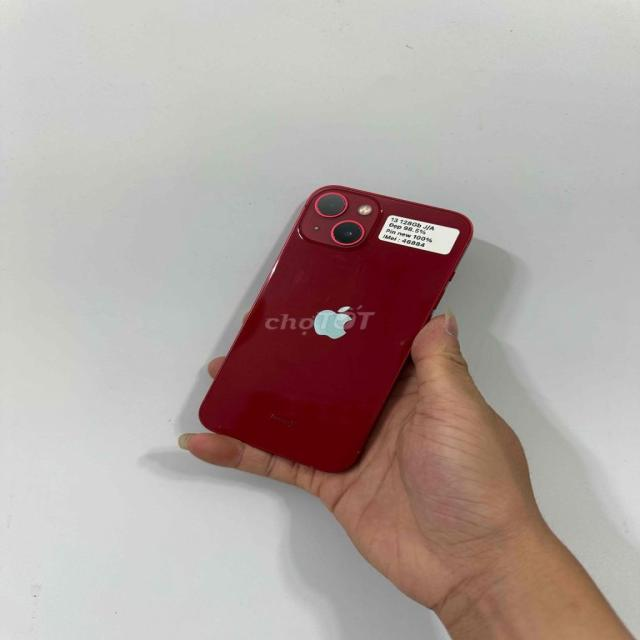gen_12_13: (193, 185, 480, 472)
